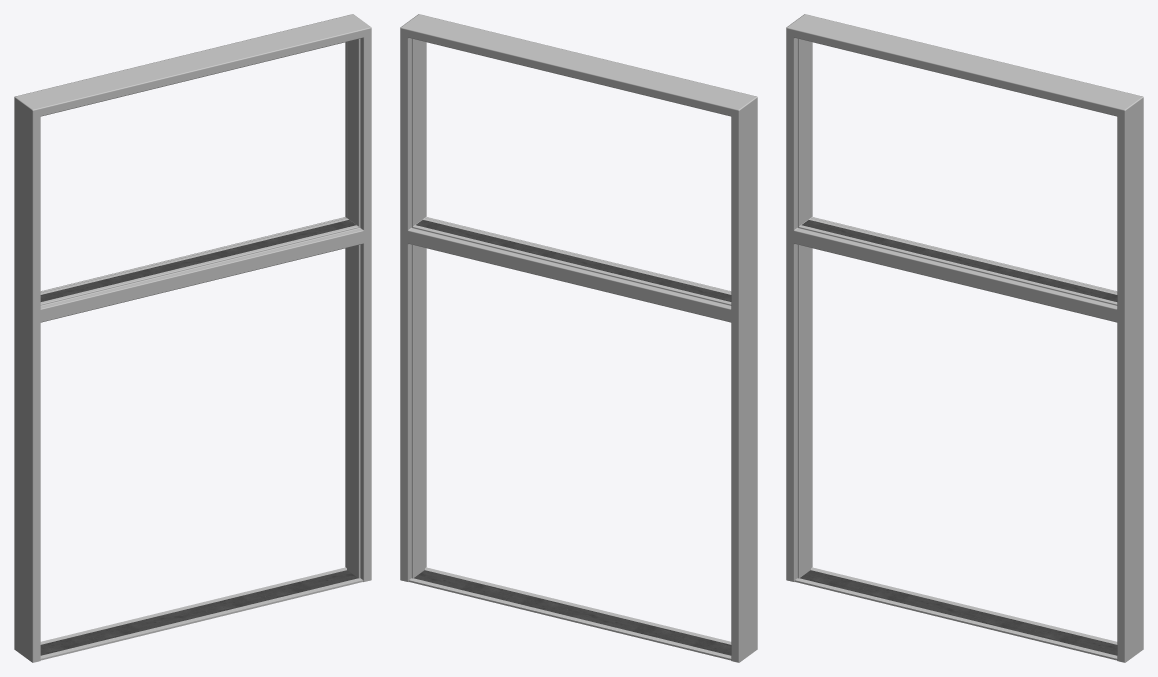
The model's file is Windows_07_Frame_Snaps014.FBX.
3 renders of one model, left to right at view 1: azimuth 30°, elevation 25°; view 2: azimuth 150°, elevation 25°; view 3: azimuth 330°, elevation 25°, orthographic.
Visible parts, largest first — view 1: Windows_07_Frame_LOD00; view 2: Windows_07_Frame_LOD00; view 3: Windows_07_Frame_LOD00.
Boxes of the visible parts, x1=… form: Windows_07_Frame_LOD00: x1=14, y1=14, x2=371, y2=662; Windows_07_Frame_LOD00: x1=400, y1=14, x2=757, y2=662; Windows_07_Frame_LOD00: x1=786, y1=14, x2=1143, y2=662.
Size of what is drawn, in the model's own units: 212 by 330 by 20.
